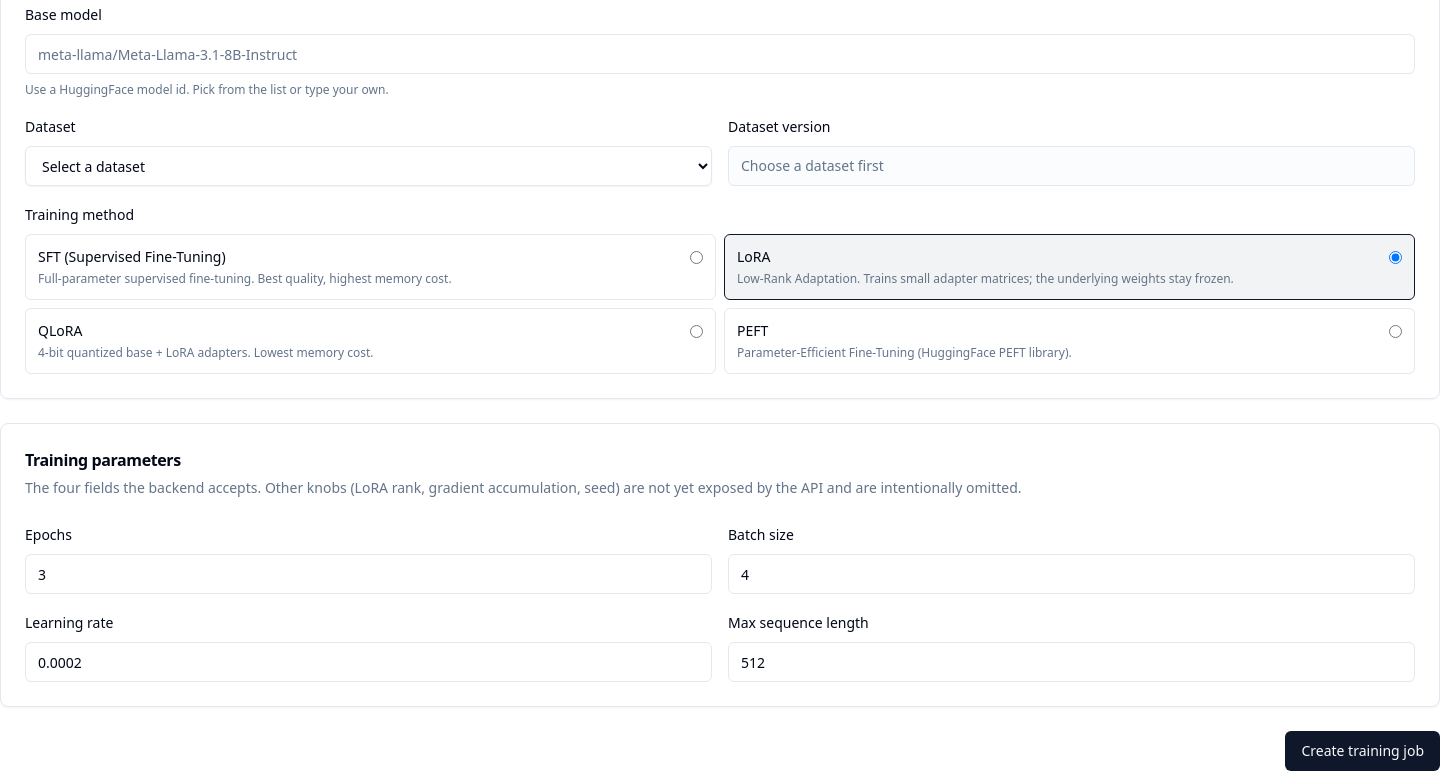
Test: NewTrainingJobPage › shows validation errors for missing required fields
(page scrolled)
Click the button "Create training job" at [1363, 751], box left=1285, top=731, right=1439, bottom=770
(page scrolled)
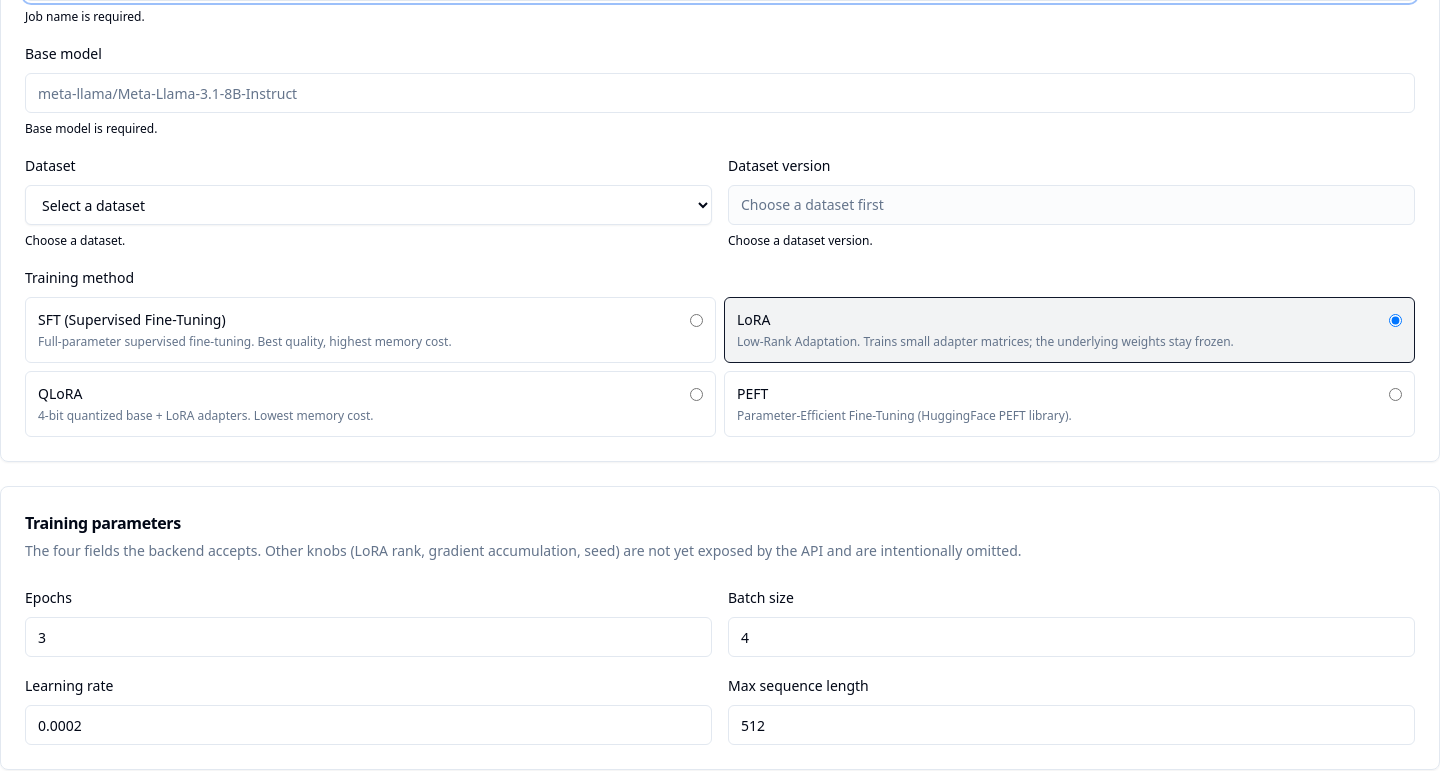
Expected: the text "Job name is required." is shown, left=25, top=8, right=145, bottom=25
Expected: the text "Base model is required." is shown, left=25, top=120, right=157, bottom=137
